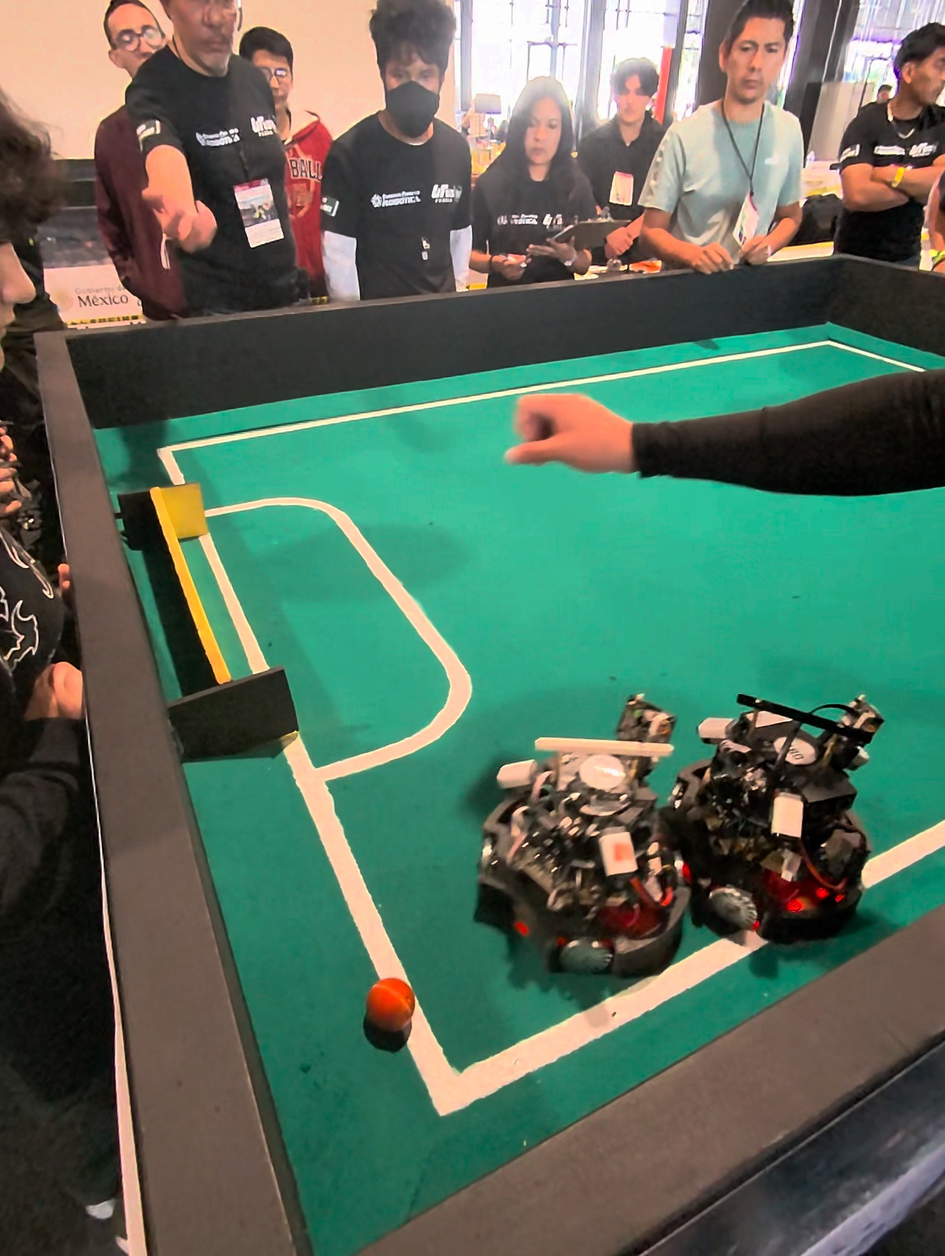Robot: (668, 674, 896, 963), (461, 723, 692, 990)
pelota: (367, 981, 416, 1050)
